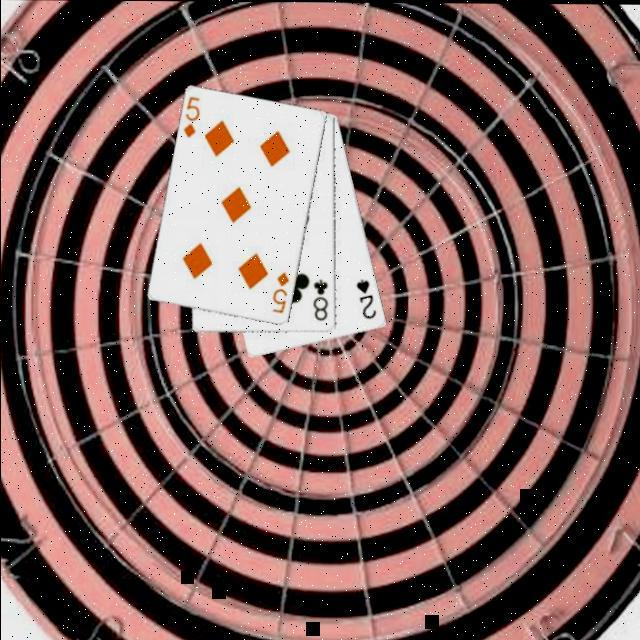2S: (351, 277, 377, 323)
5D: (268, 270, 291, 318), (178, 95, 201, 143)
8C: (308, 278, 330, 324)
